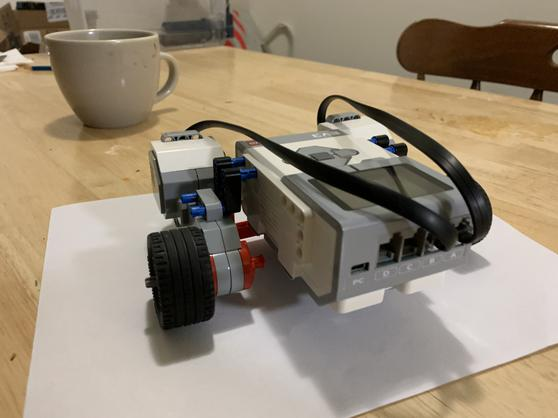robot: (137, 92, 505, 338)
